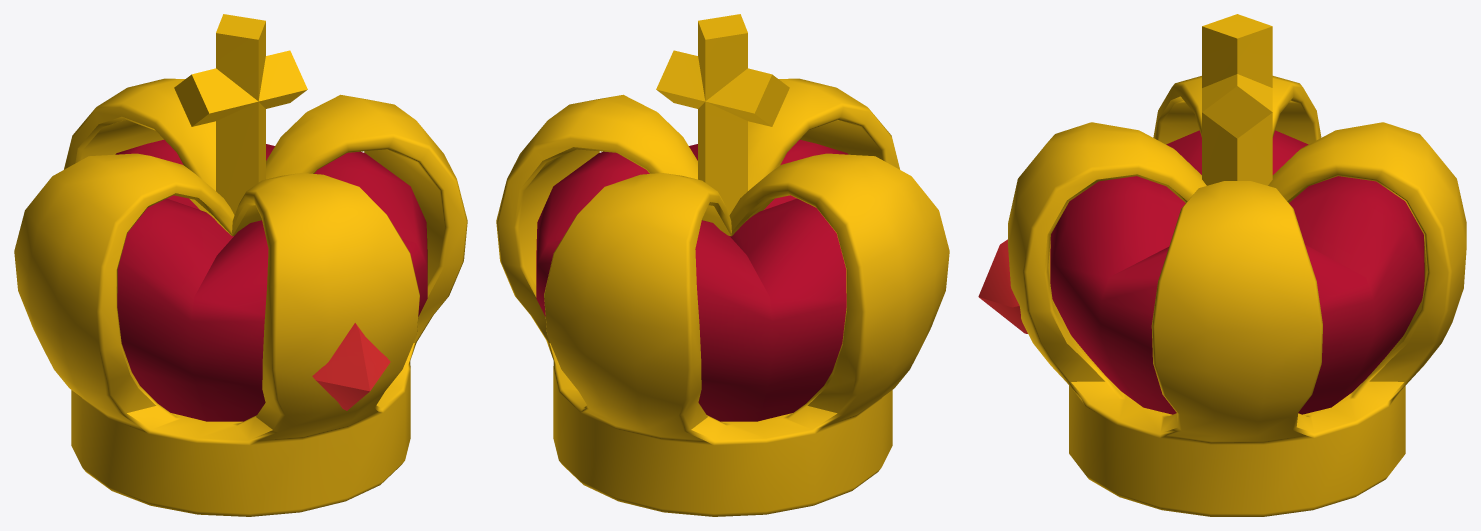
3 renders of one model, left to right at view 1: azimuth 30°, elevation 25°; view 2: azimuth 150°, elevation 25°; view 3: azimuth 270°, elevation 25°, orthographic.
Parts seen in each view (by area): view 1: model_0.013; view 2: model_0.013; view 3: model_0.013.
Part boxes in pixels (x1,y1,x2,y2): model_0.013: [14, 14, 467, 516]; model_0.013: [496, 14, 949, 516]; model_0.013: [978, 14, 1466, 516].
Size of the model in its own units: 3.79 by 3.84 by 4.04.
